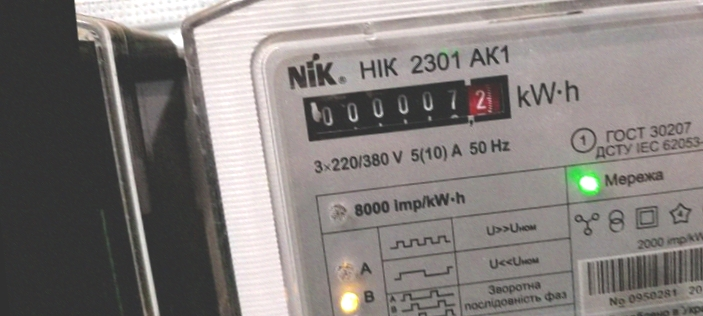0: (319, 102, 335, 127), (395, 91, 411, 115), (344, 99, 360, 122), (370, 95, 385, 119), (420, 88, 435, 112)
2: (473, 86, 488, 111)
7: (446, 85, 460, 110)
screen: (291, 62, 523, 150)
